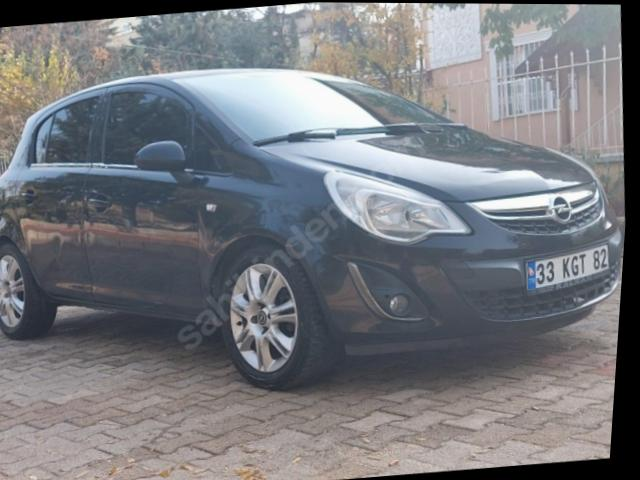plaka: (526, 244, 607, 289)
